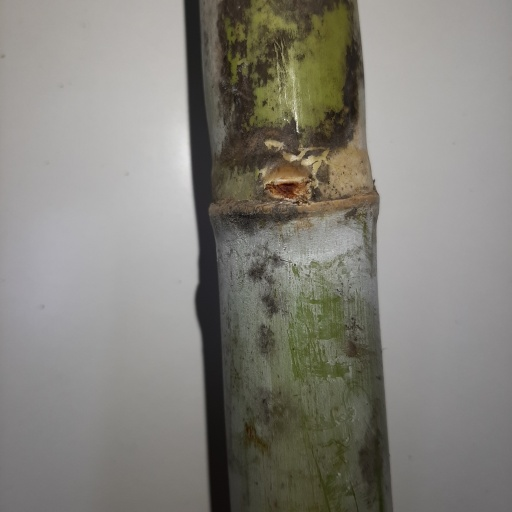Damage_Bud: (263, 157, 312, 205)
